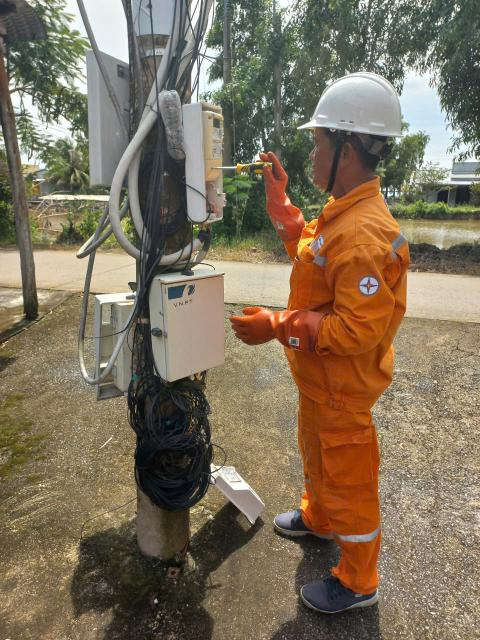gloves: (233, 288, 327, 357), (252, 147, 311, 252)
helmet: (295, 67, 425, 142)
shoes: (285, 560, 396, 614), (266, 500, 363, 541)
